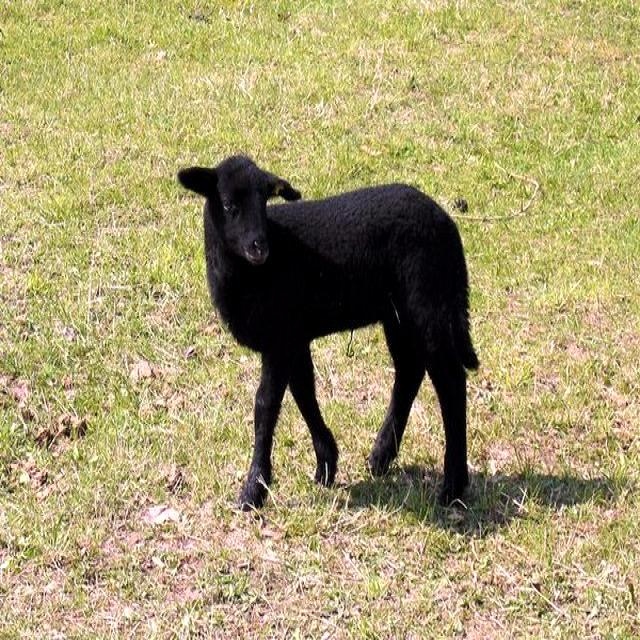sheep: (178, 157, 481, 510)
